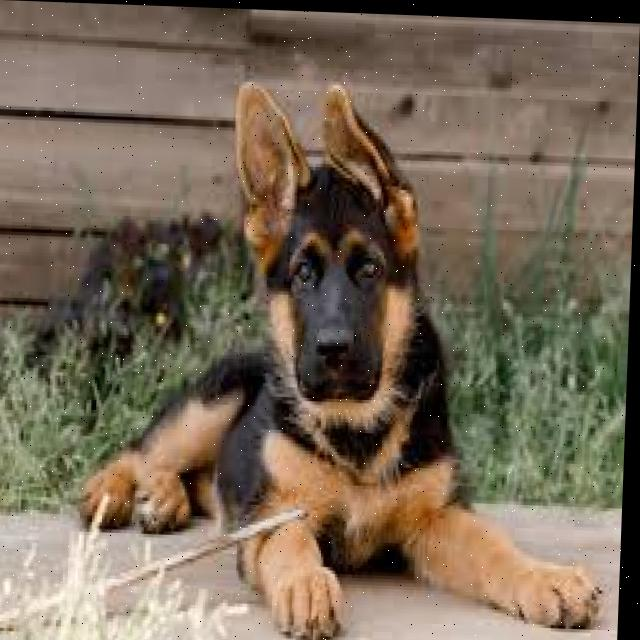GERMAN_SHEPHERD: (65, 54, 629, 639)
